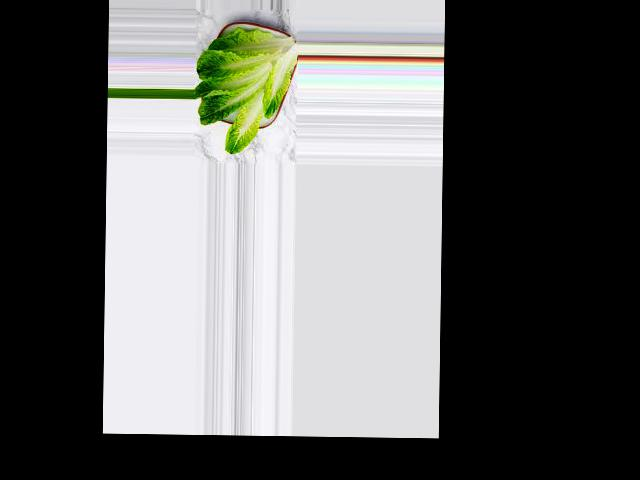lettuce: (170, 61, 278, 163)
